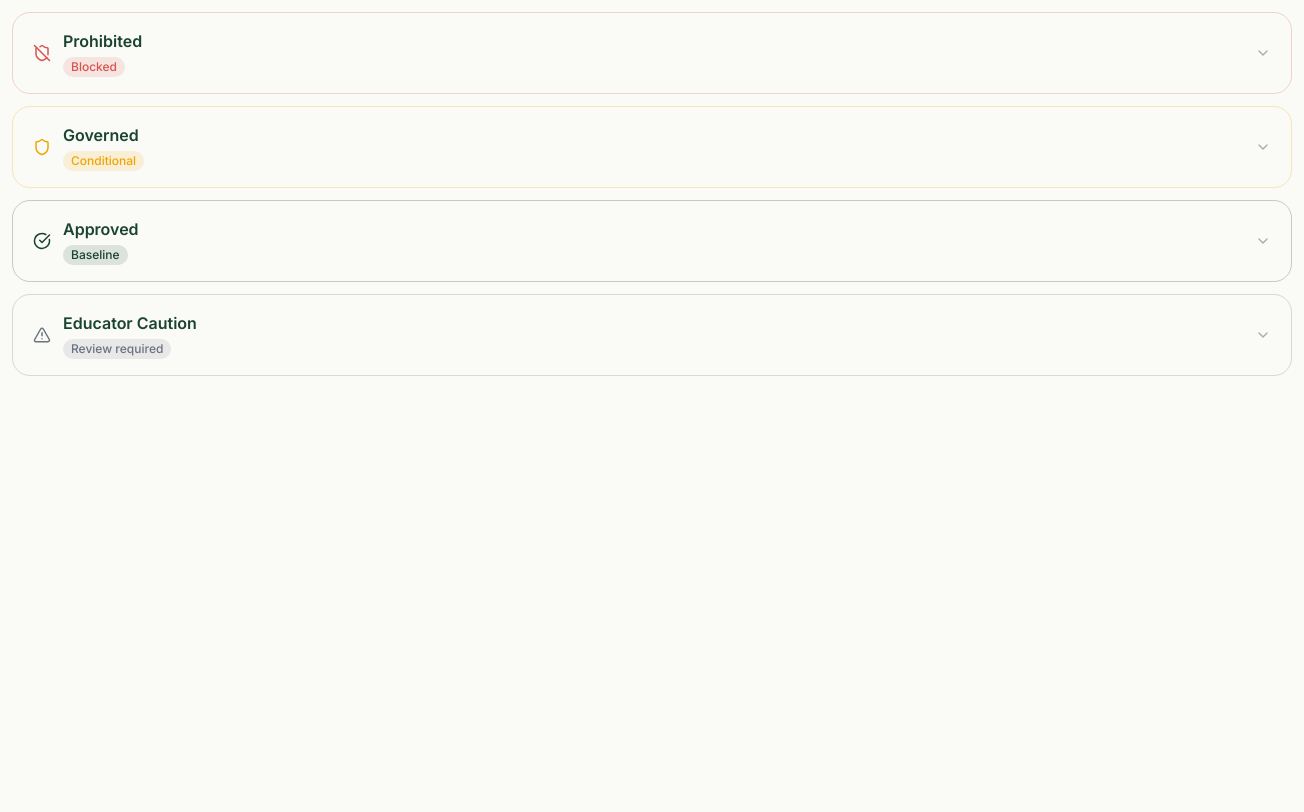
Scenario: RiskTierMap › clicking Prohibited tier reveals its categories
What coordinates should you click on to do the following:
click the text "Prohibited"
I would click on:
 (103, 41)
Its box is [63,29,142,53].
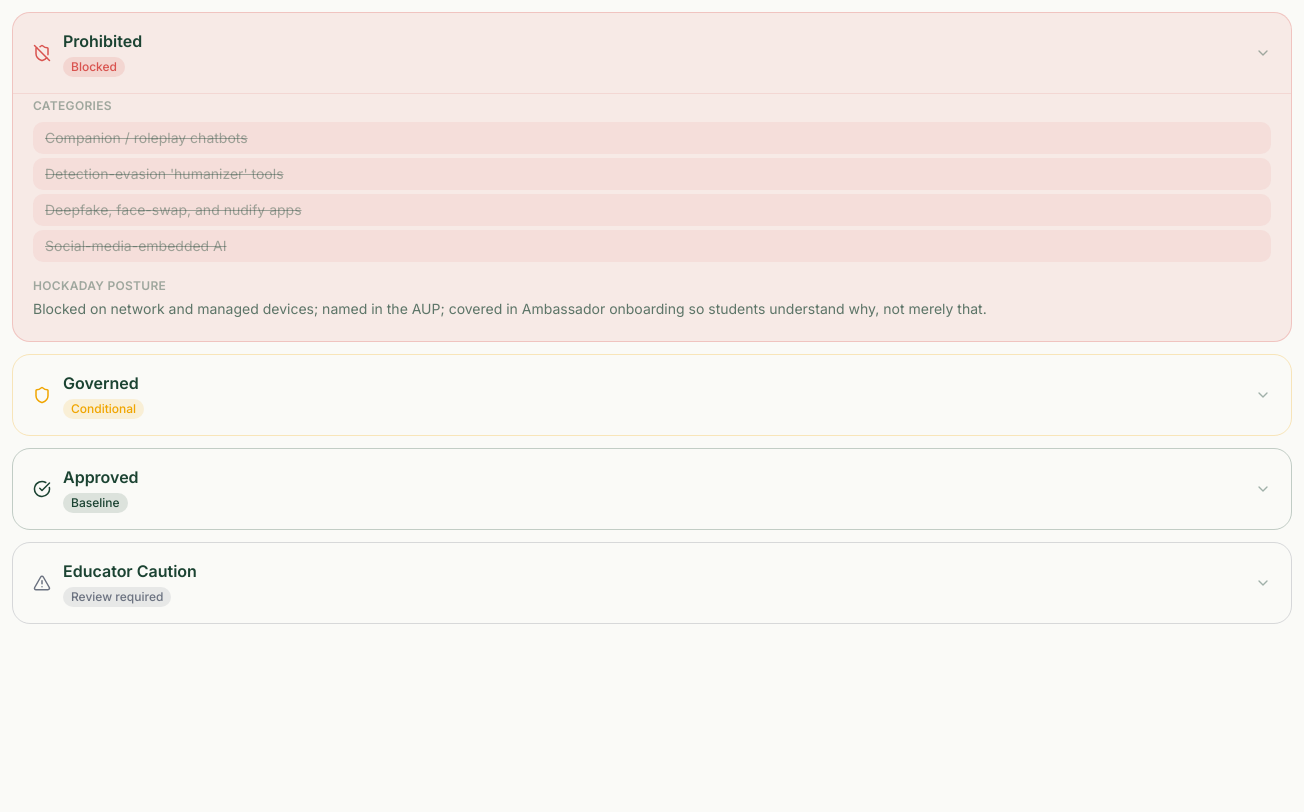
Result: the list item "Companion / roleplay chatbots" is shown at [33,122,1271,154]
